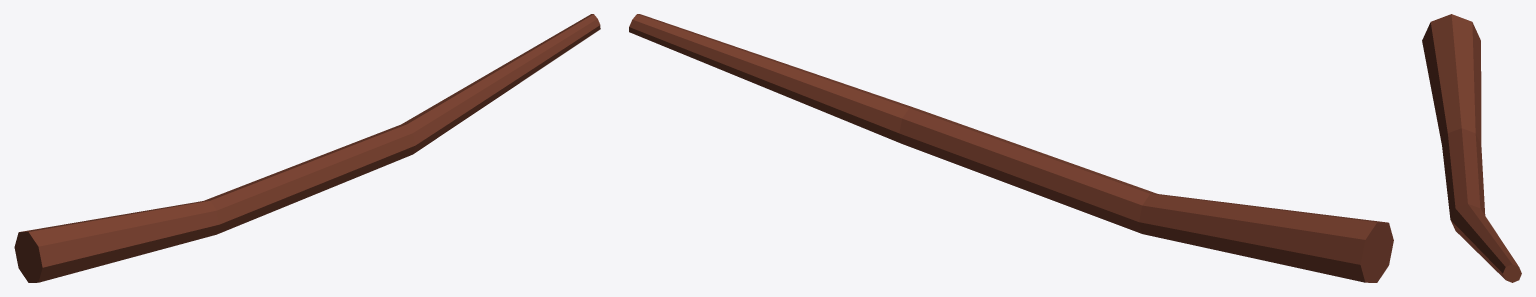
Rendered from pine_branch_type_3_LOD0.fbx.
The picture shows the model from 3 angles, left to right: view 1: azimuth 30°, elevation 25°; view 2: azimuth 150°, elevation 25°; view 3: azimuth 270°, elevation 25°; orthographic projection. The views are drawn at different scales.
Parts seen in each view (by area): view 1: Circle.032; view 2: Circle.032; view 3: Circle.032.
Part boxes in pixels (bbox=[...]): Circle.032: bbox=[14, 14, 600, 282]; Circle.032: bbox=[629, 14, 1393, 282]; Circle.032: bbox=[1422, 14, 1521, 282].
Bounding box in the file's own units: 311 × 51.31 × 42.83.
